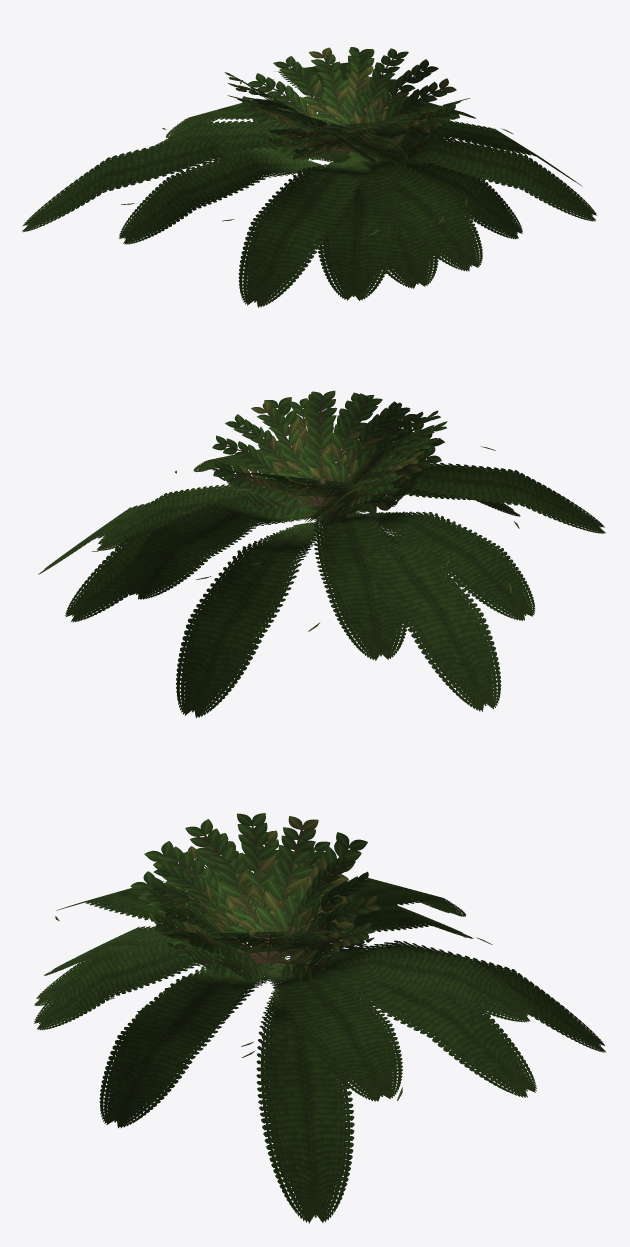
File: ENV_Bush_03.fbx
The picture shows the model from 3 angles, top to bottom: view 1: azimuth 30°, elevation 25°; view 2: azimuth 150°, elevation 25°; view 3: azimuth 270°, elevation 25°; orthographic projection. The views are drawn at different scales.
Parts seen in each view (by area): view 1: ENV_Bush_03_LOD0; view 2: ENV_Bush_03_LOD0; view 3: ENV_Bush_03_LOD0.
Part boxes in pixels (x1,y1,x2,y2): ENV_Bush_03_LOD0: (22,47,596,307); ENV_Bush_03_LOD0: (38,390,605,717); ENV_Bush_03_LOD0: (34,813,605,1223).
Size of what is drawn, in the model's own units: 2.4 by 0.9283 by 2.09.
